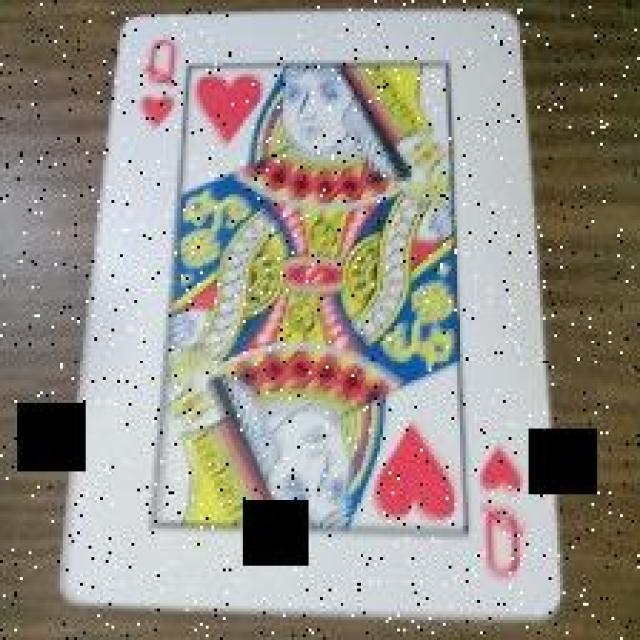Queen of hearts: (62, 14, 558, 612)
